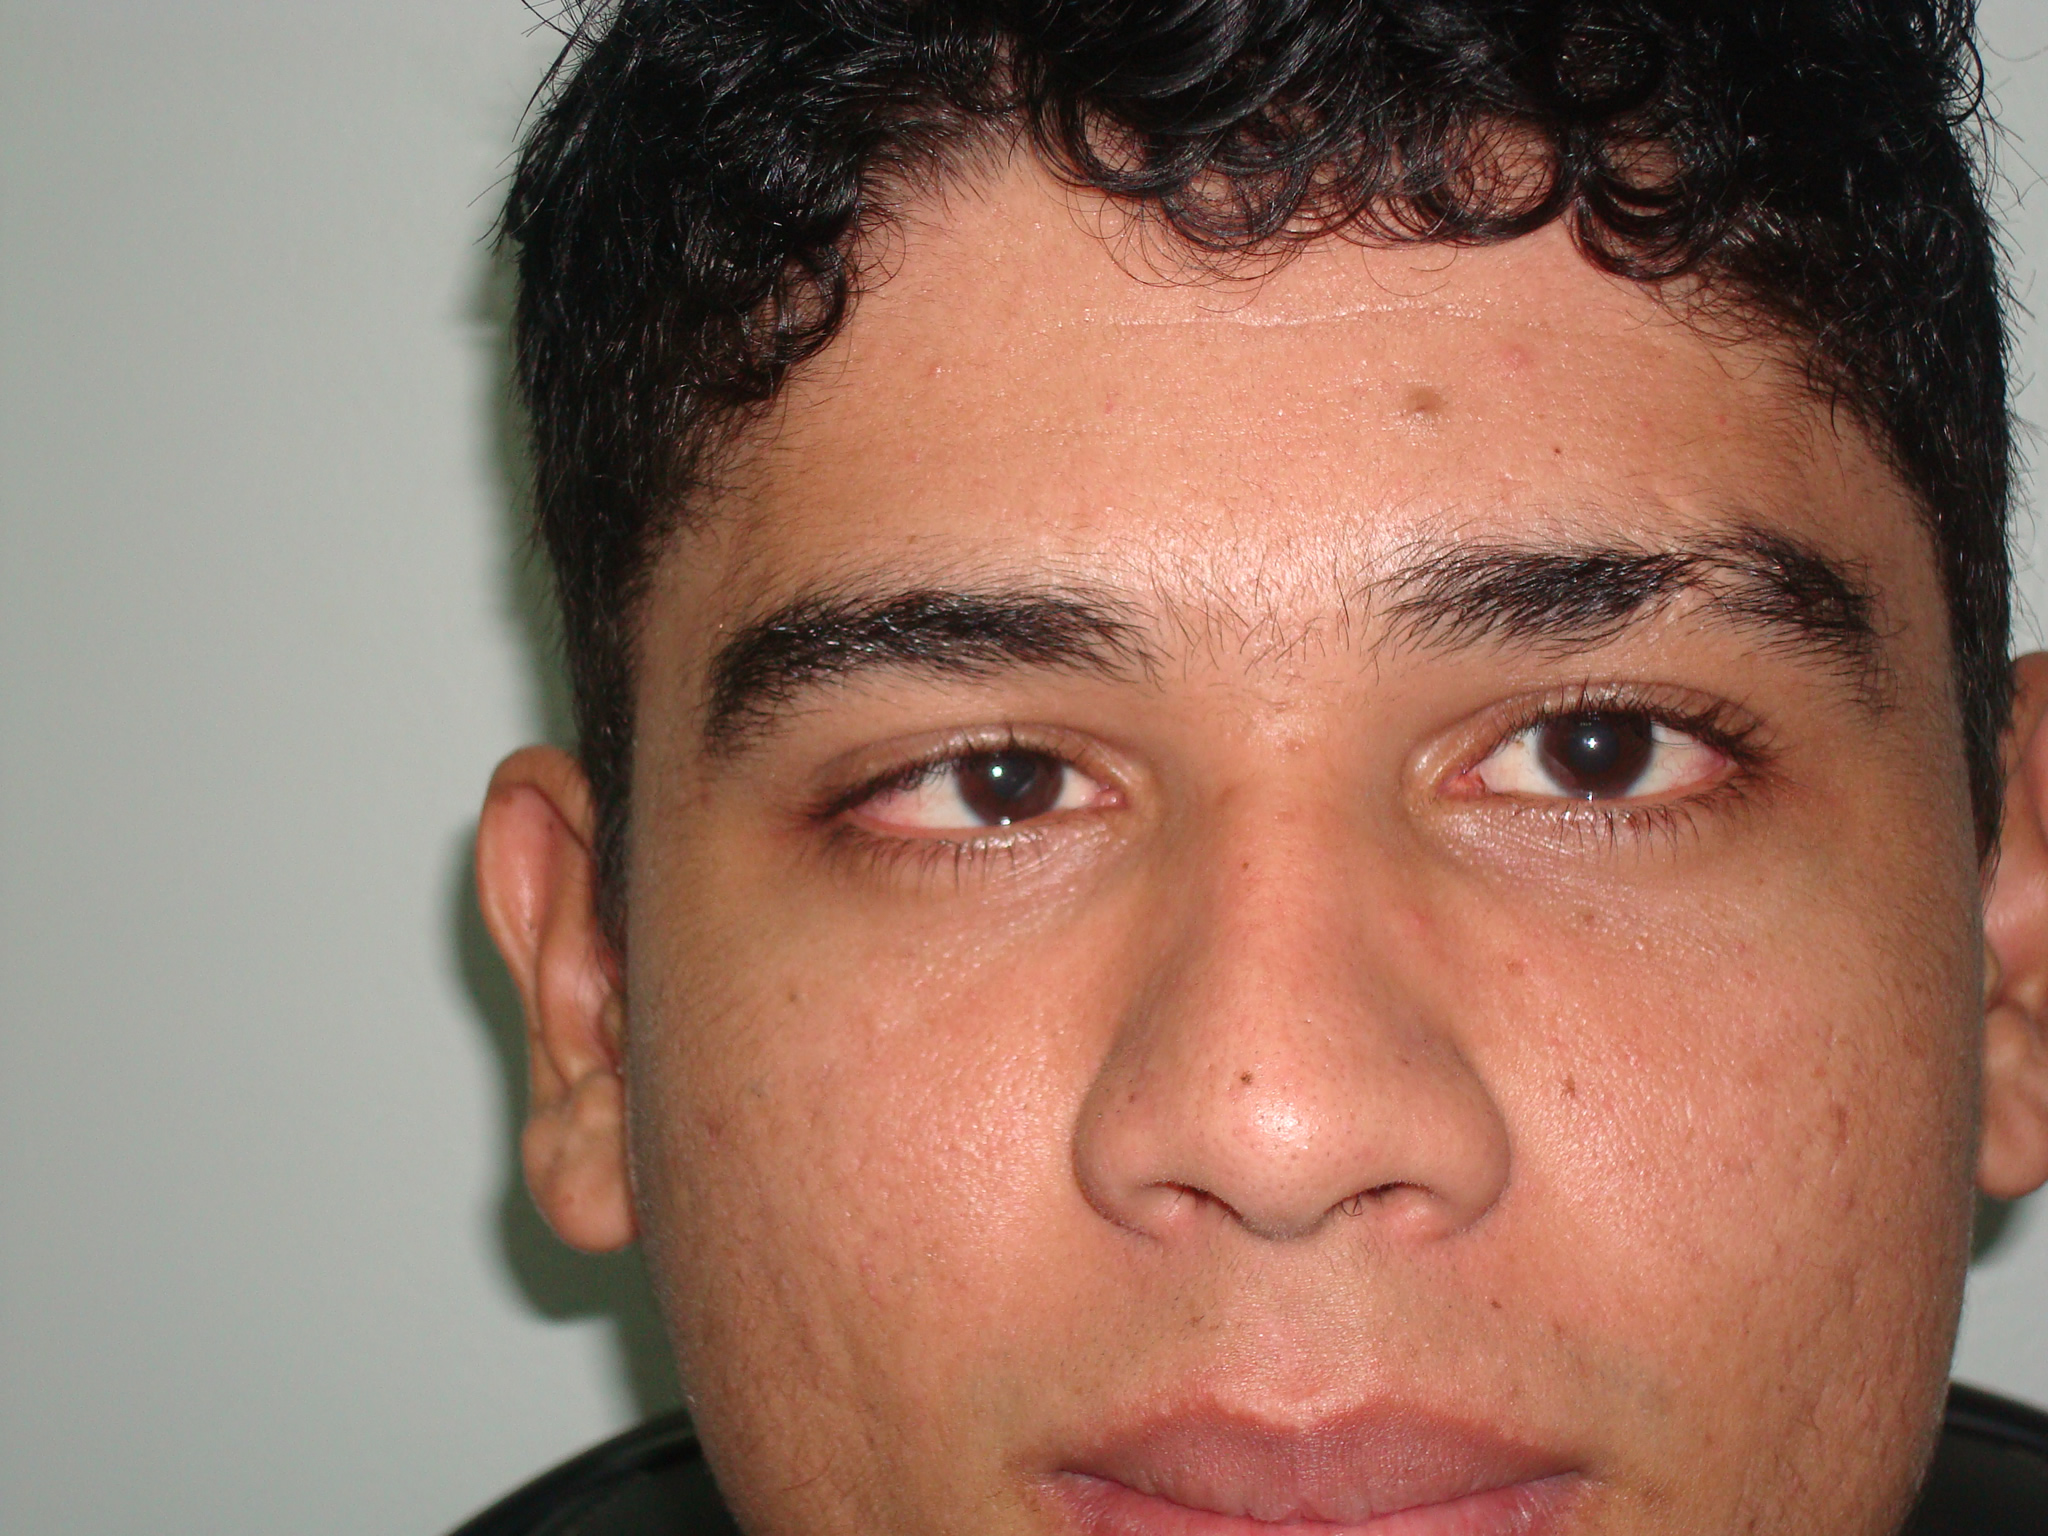flash: (989, 762, 1006, 783), (1584, 733, 1600, 753)
limbo: (1538, 692, 1646, 803), (963, 728, 1061, 828)
